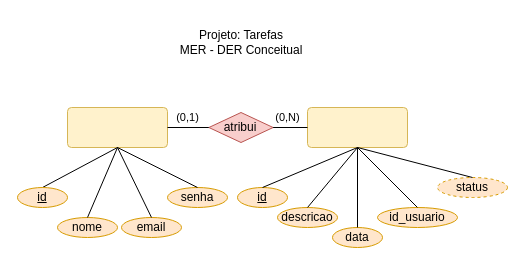
This 525x265 diagram has some shape labels left out. Each missing label, with the box of its shape:
Tarefa: (306, 106, 408, 148)
Usuario: (66, 106, 168, 148)
